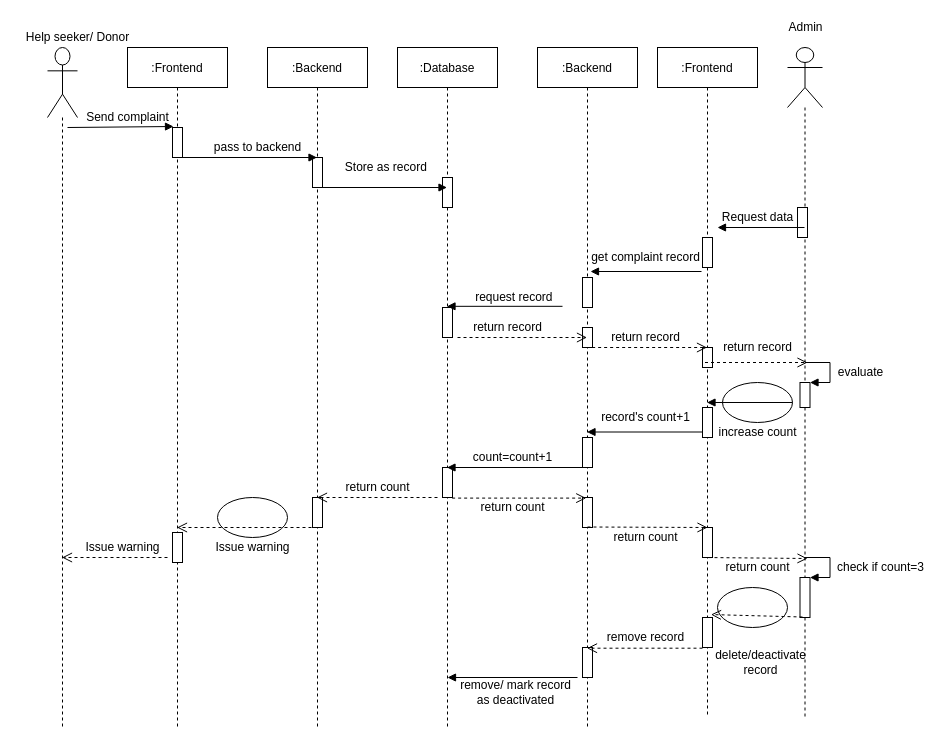
Image size: 947x745. Some labels were removed from this diagram. Each missing label, with the centre of its shape:
If complaint valid: (x=757, y=402)
If count=2: (x=252, y=517)
If count=3: (x=752, y=607)
